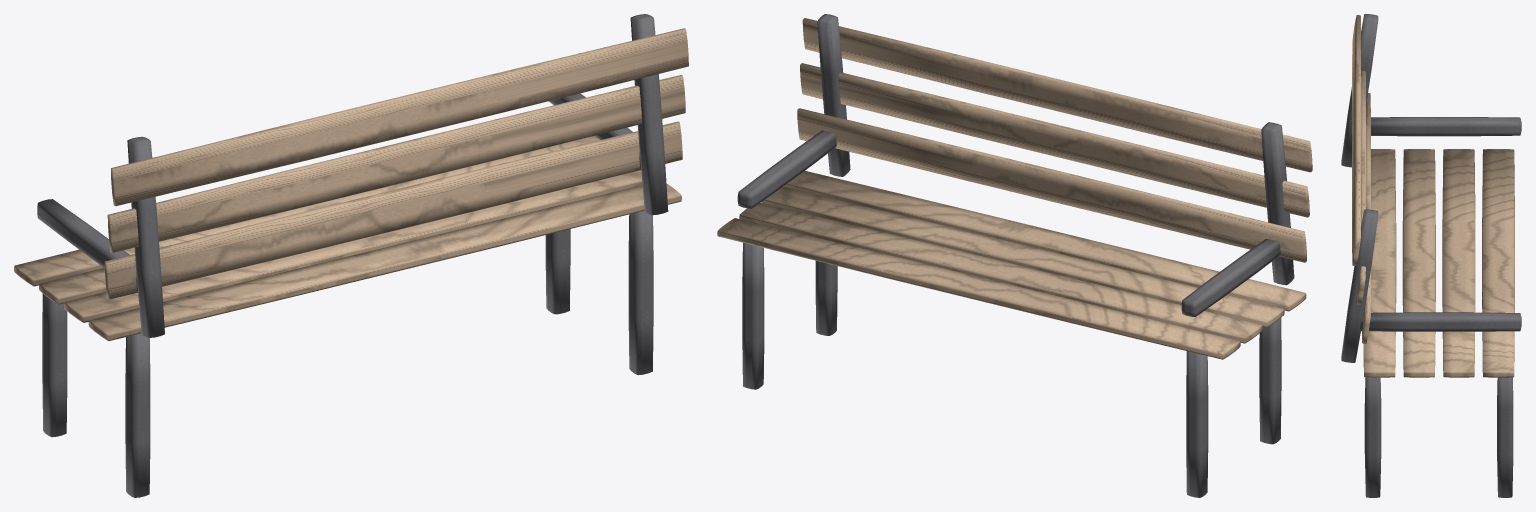
Rendered from bench.glb.
The picture shows the model from 3 angles, left to right: view 1: azimuth 30°, elevation 25°; view 2: azimuth 150°, elevation 25°; view 3: azimuth 270°, elevation 25°; orthographic projection. The views are drawn at different scales.
Visible parts, largest first — view 1: bench_body; view 2: bench_body; view 3: bench_body.
Part boxes in pixels (bbox=[...]): bench_body: bbox=[14, 14, 688, 497]; bench_body: bbox=[717, 14, 1312, 497]; bench_body: bbox=[1341, 14, 1521, 497].
Size of the model in its own units: 1.6 by 0.9487 by 0.5462.
Materials: 2 (2 with a texture image).
